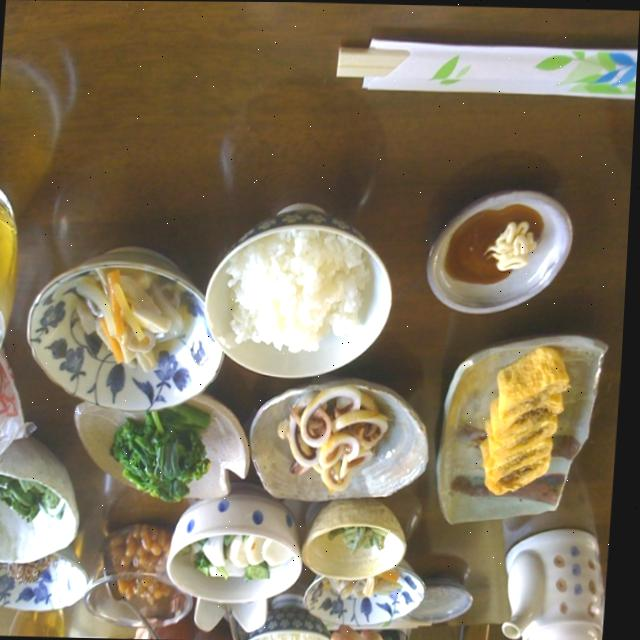米饭主食: (198, 199, 406, 383)
鸡蛋料理: (478, 347, 574, 509)
